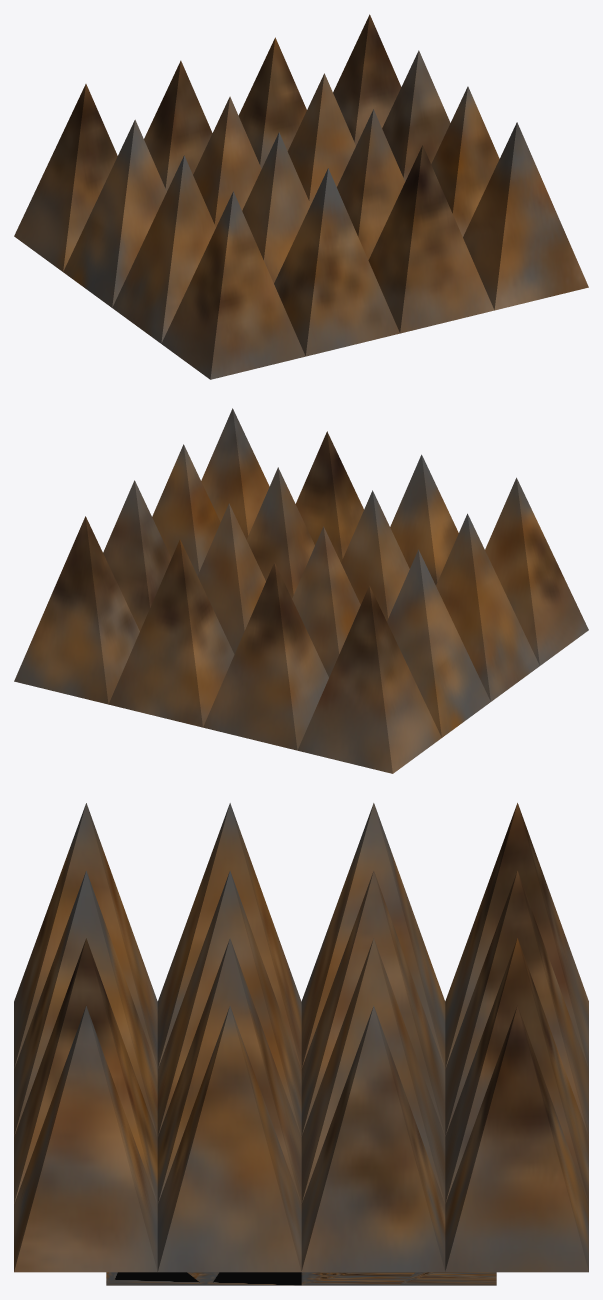
The model's file is Four_Row_Spikes.fbx.
3 views of the same model, one above another, from view 1: azimuth 30°, elevation 25°; view 2: azimuth 150°, elevation 25°; view 3: azimuth 270°, elevation 25° (orthographic). The views are drawn at different scales.
Visible parts, largest first — view 1: Spike_Pit_Platform_1_Spikes1; view 2: Spike_Pit_Platform_1_Spikes1; view 3: Spike_Pit_Platform_1_Spikes1.
Boxes of the visible parts, x1,y1,x2,y2 form: Spike_Pit_Platform_1_Spikes1: [14, 14, 588, 379]; Spike_Pit_Platform_1_Spikes1: [14, 408, 588, 773]; Spike_Pit_Platform_1_Spikes1: [14, 803, 588, 1285].
Bounding box in the file's own units: 2.17 × 1.03 × 1.95.
